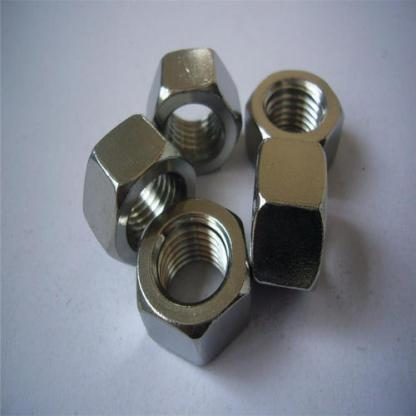FOD: (134, 191, 254, 369), (73, 112, 198, 269), (245, 132, 332, 297), (140, 41, 245, 174), (244, 64, 348, 184)
